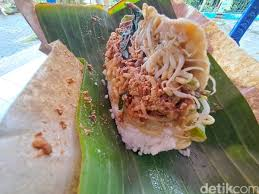Nasi pecel: (102, 7, 218, 165)
